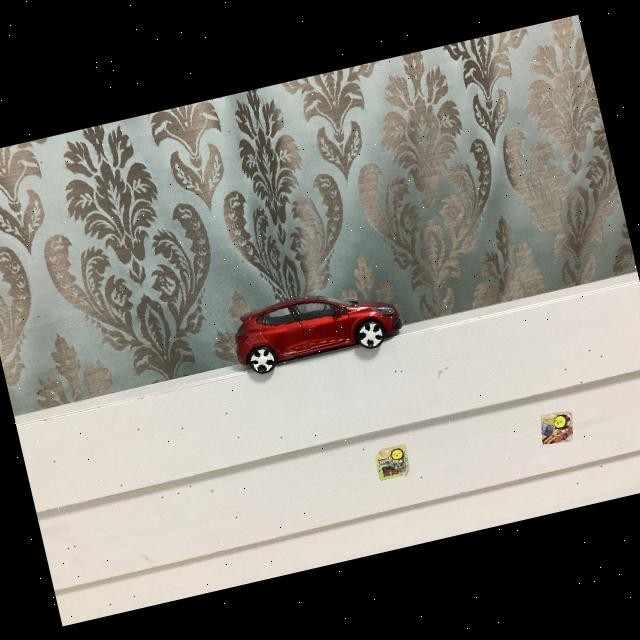Yanlis_Jant: (248, 346, 278, 374), (358, 322, 384, 348)
